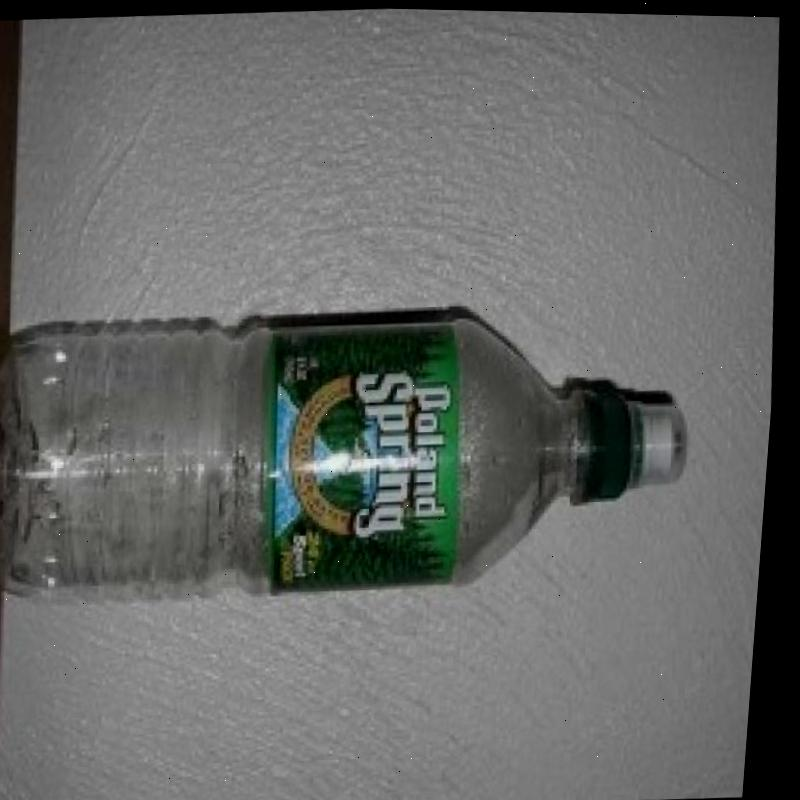botella: (0, 295, 708, 615)
